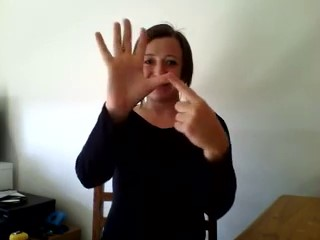A: (90, 16, 229, 156)
